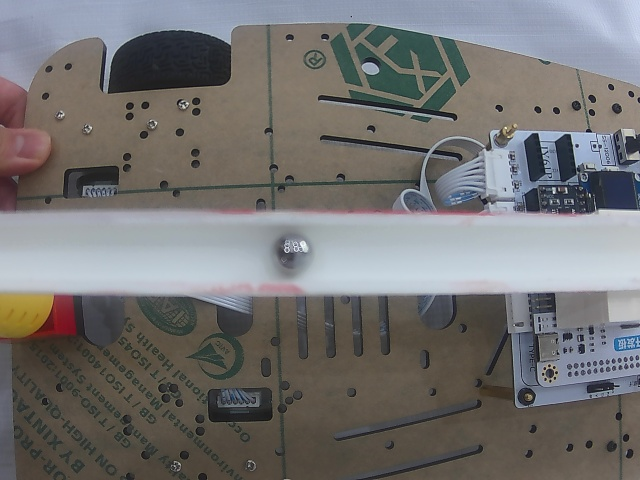steelball: (269, 232, 315, 275)
